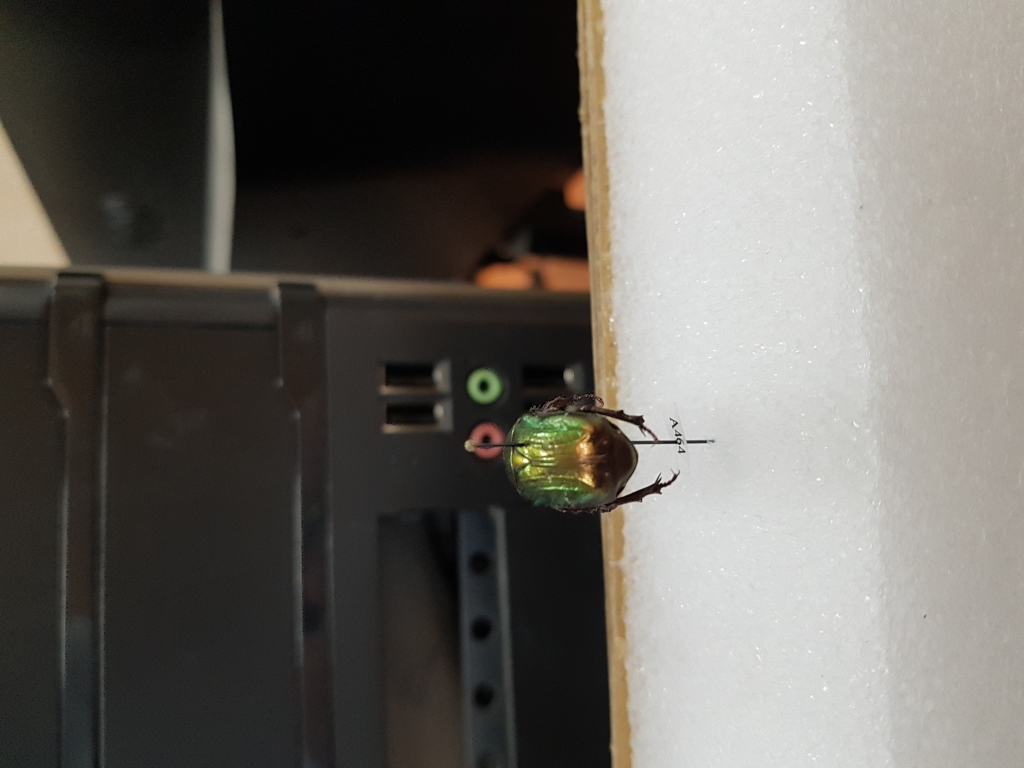Cetonia_kemali: (495, 392, 683, 531)
